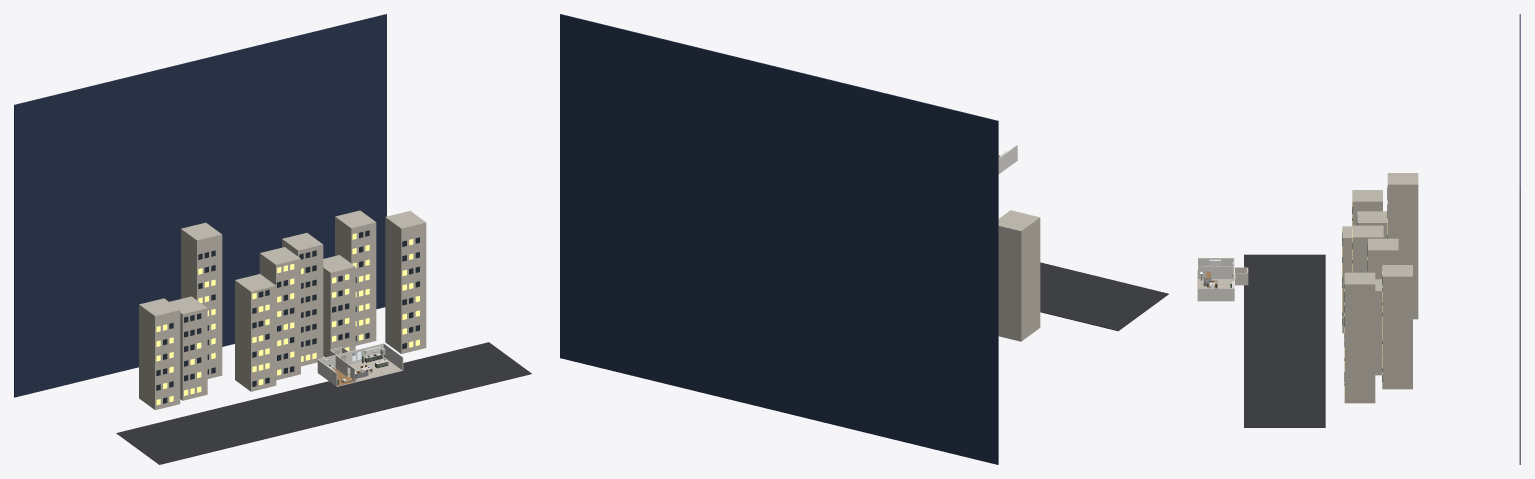
The model's file is apartment31.glb.
3 renders of one model, left to right at view 1: azimuth 30°, elevation 25°; view 2: azimuth 150°, elevation 25°; view 3: azimuth 270°, elevation 25°, orthographic. The views are drawn at different scales.
Visible parts, largest first — view 1: skyWall, outside, floor; view 2: skyWall, outside; view 3: outside, skyWall, wallRight, partition.
Part boxes in pixels (left/top/right/bottom): skyWall: left=14, top=14, right=386, bottom=397; outside: left=116, top=210, right=531, bottom=464; floor: left=329, top=358, right=403, bottom=386; skyWall: left=560, top=14, right=998, bottom=464; outside: left=998, top=210, right=1168, bottom=341; outside: left=1244, top=173, right=1418, bottom=427; skyWall: left=1519, top=14, right=1520, bottom=464; wallRight: left=1198, top=288, right=1233, bottom=301; partition: left=1198, top=266, right=1233, bottom=278.
Bounding box in the file's own units: 80 × 60 × 63.2.
